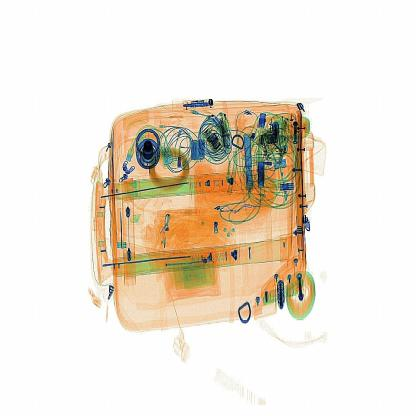wrench: (112, 198, 138, 263)
